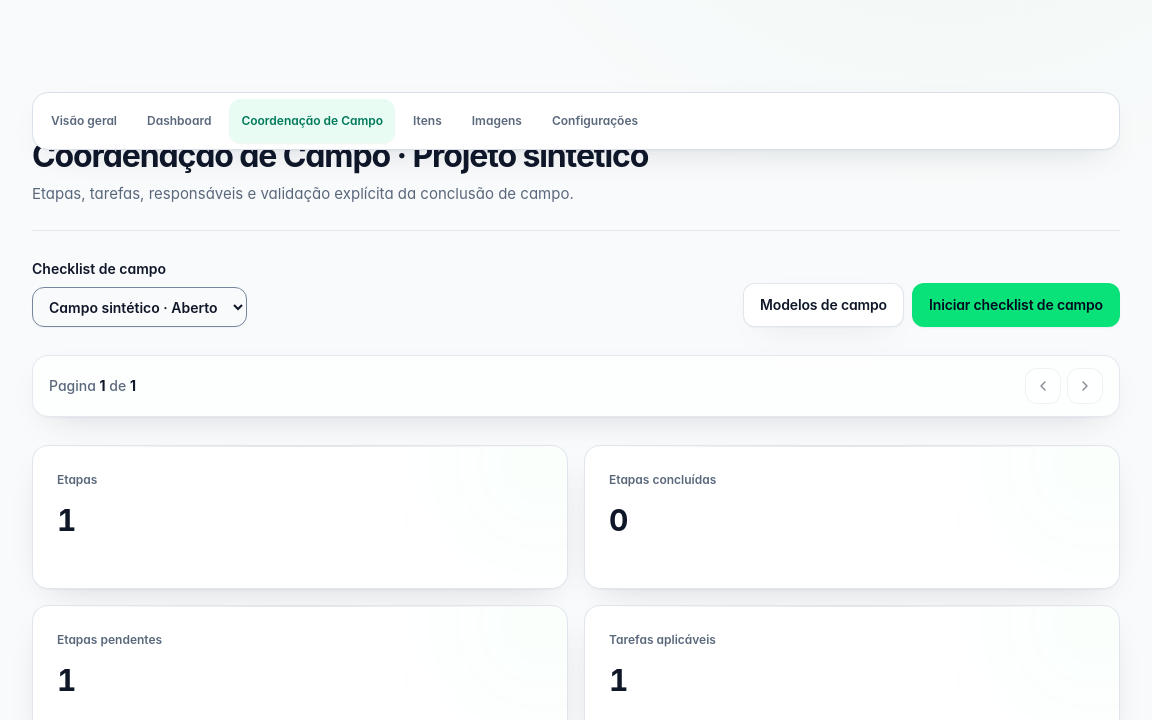
Test: Field coordination UI › uses server KPIs, renders all stages and navigates back to another workspace area without losing the bar
The image size is (1152, 720).
What coordinates should you click on to do the following:
click the link "Itens"
I would click on:
 (427, 120)
Its box is [413,113,442,128].
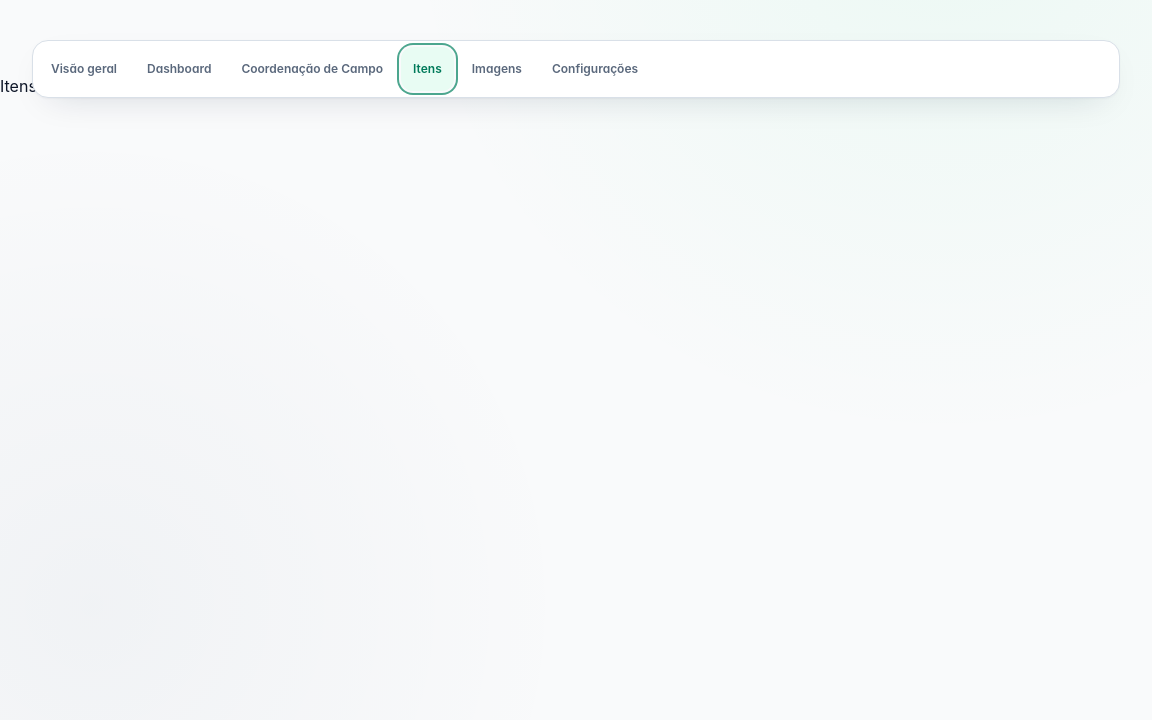
Expected: the heading "Itens do mesmo projeto" is shown, [0,76,178,96]
